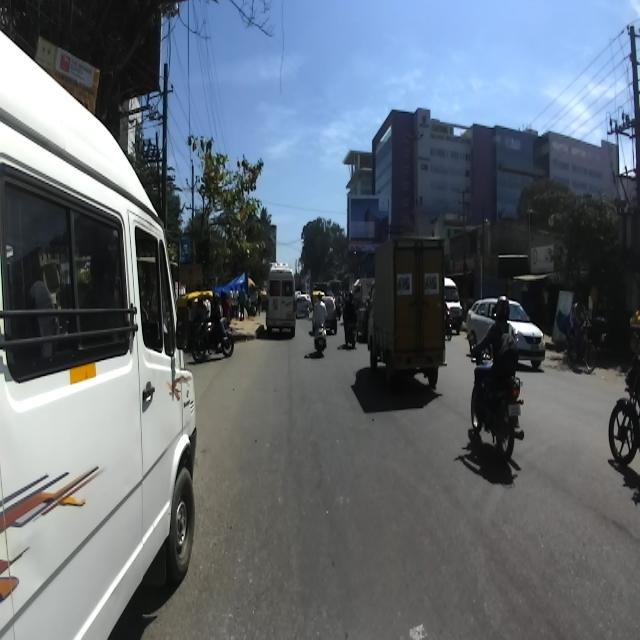auto ahead at: (368, 235, 460, 396)
bus ahead at: (0, 34, 205, 640), (264, 260, 299, 342)
motorcycle ahead at: (464, 338, 528, 474)
